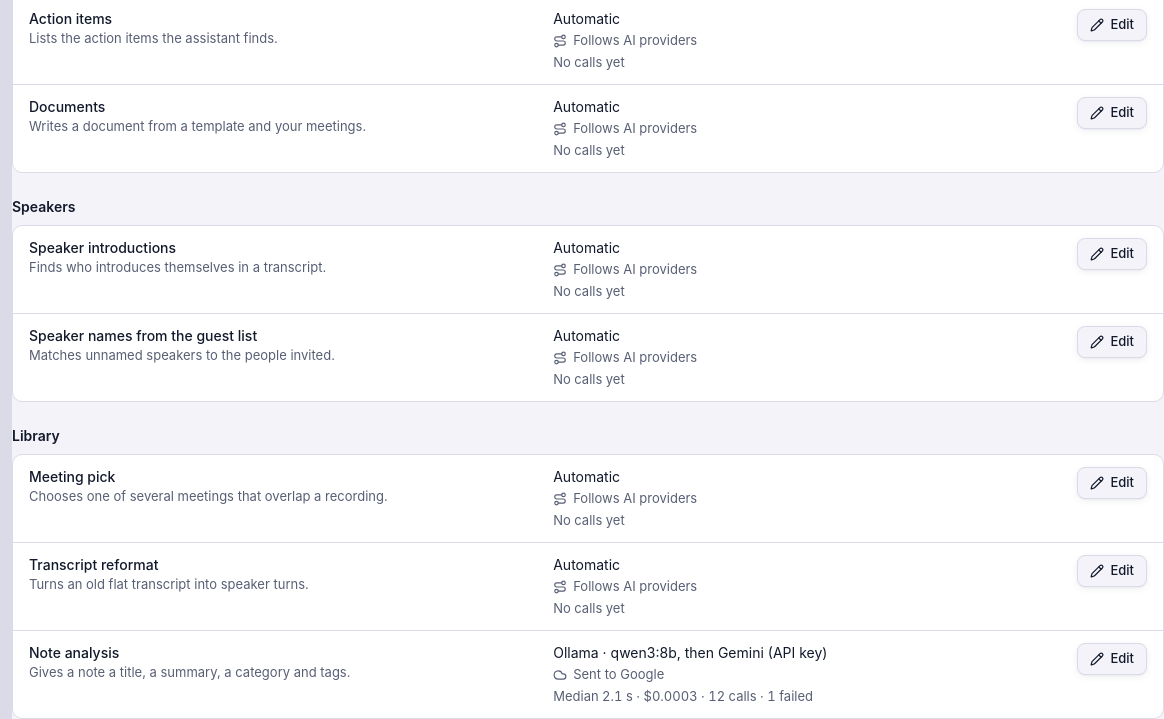
Scenario: PipelineSection › reads a saved plan into the row, and the editor opens on it
(page scrolled)
Expected: the text "Ollama · qwen3:8b, then Gemini (API key)" is shown, [553,644,827,661]
Expected: the text "Sent to Google" is shown, [553,666,664,682]
Click the button with aria-label "Edit Note analysis" at x=1112, y=659, box [1077,643,1147,675]
(page scrolled)
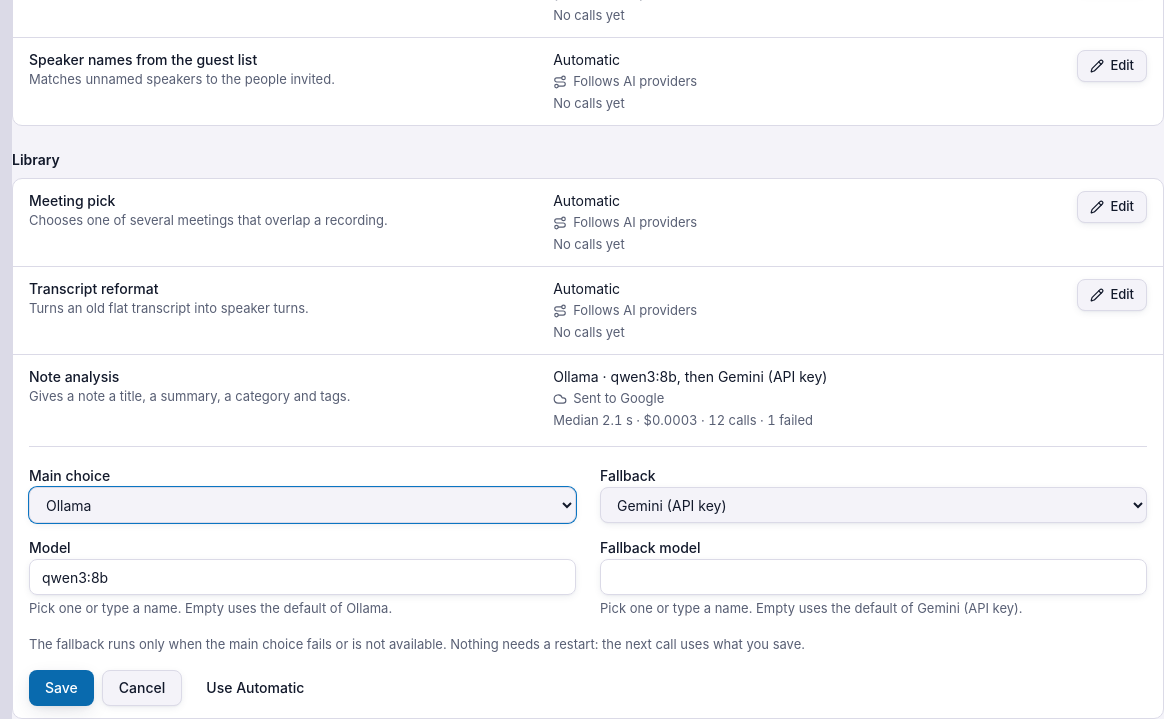
Result: the dropdown labelled "Main choice" shows "Ollama" at [29,487,576,523]
Result: the field labelled "Model" holds "qwen3:8b" at [29,559,576,595]
Result: the dropdown labelled "Fallback" shows "Gemini (API key)" at [600,487,1147,523]
